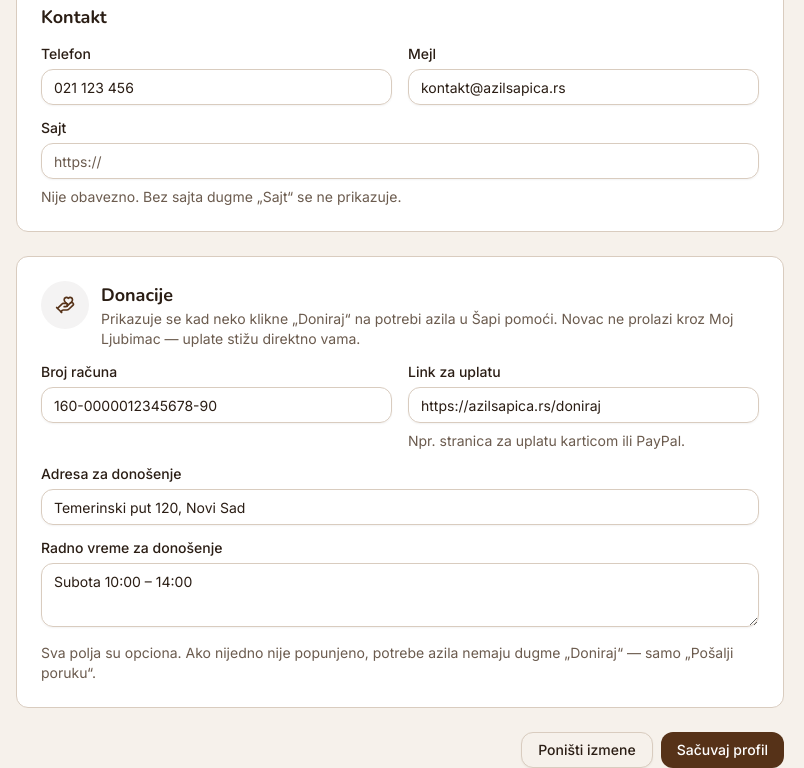
S29 Donacije — inline errors (FR-72 #3) › client-side: a non-https link and a malformed account block the save
(page scrolled)
Replace the text in the field labelled "Link za uplatu" with "http://azilsapica.rs": [584, 405] box [408,387,759,423]
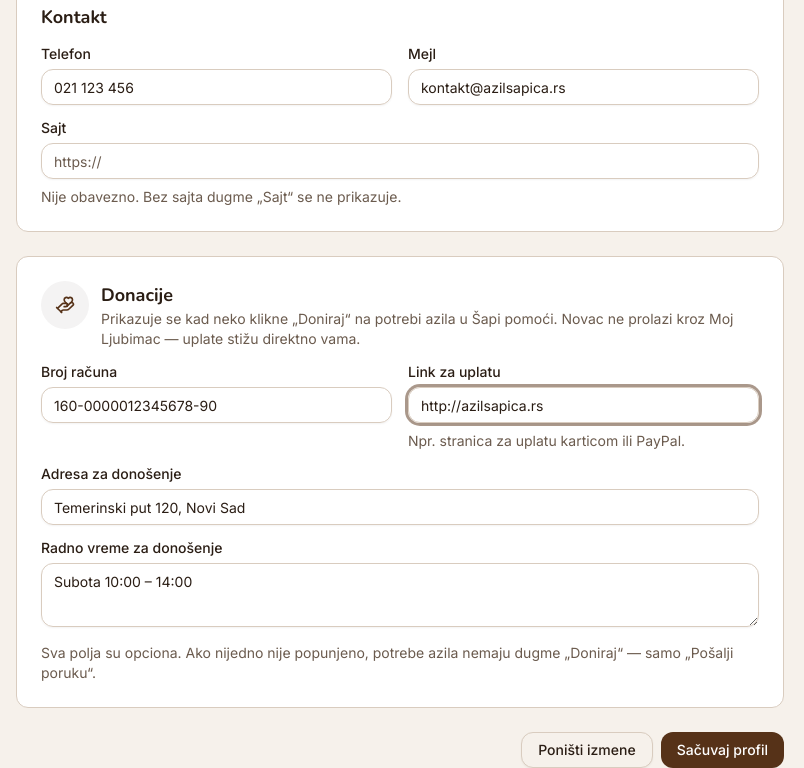
In the field labelled "Broj računa": [216, 405] box [41,387,392,423], type "160-123"
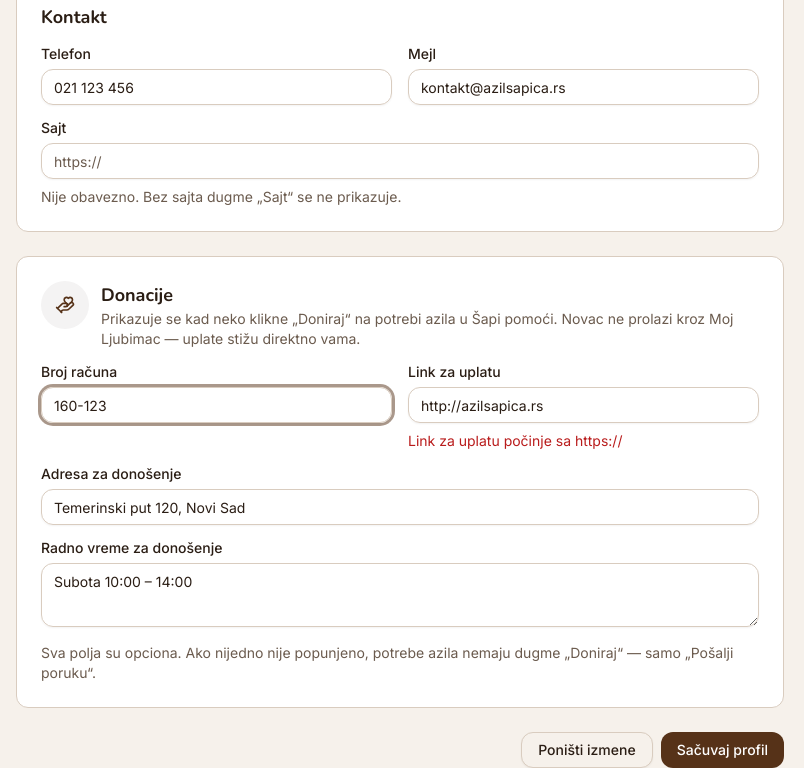
Click the button "Sačuvaj profil": [722, 750] box [661,732,784,767]
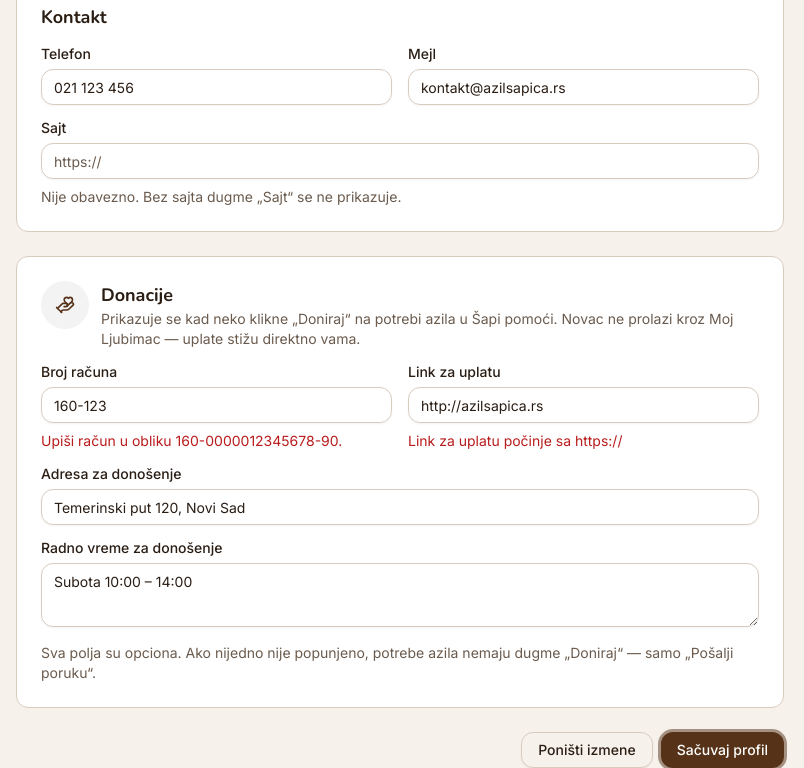
Expected: the text "Link za uplatu počinje sa https://" is shown, [408,432,622,449]
Expected: the text "Upiši račun u obliku 160-0000012345678-90." is shown, [41,431,392,451]
